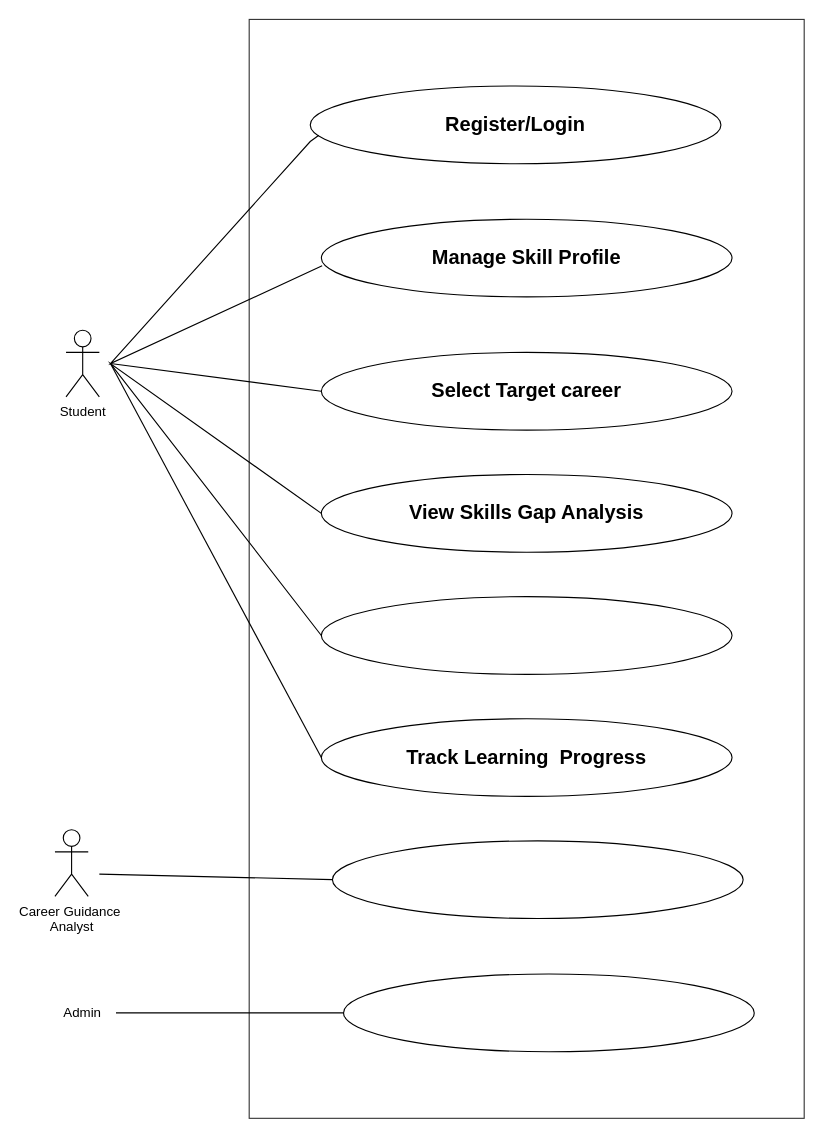
This 824x1138 diagram has some shape labels left out. Here are the shapes that lost their labels. From the top down, the box of each, then its label:
(320, 596, 732, 674): View Recommendations
(331, 840, 743, 919): View Aggregated Reports
(342, 973, 754, 1052): Manage Career Requirements
